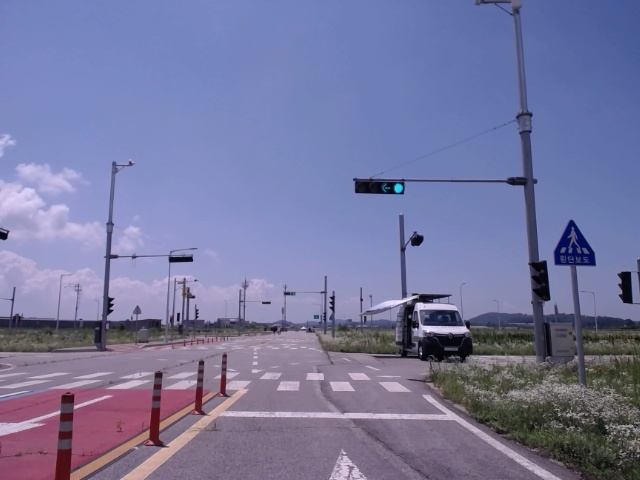all_green_4: (355, 178, 411, 197)
